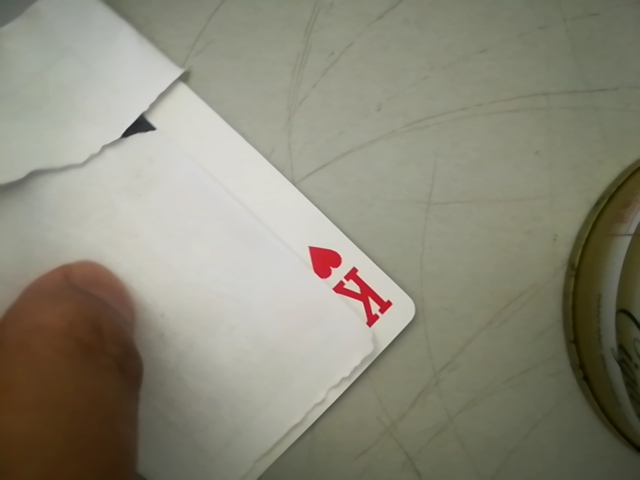hx k: (302, 234, 394, 333)
